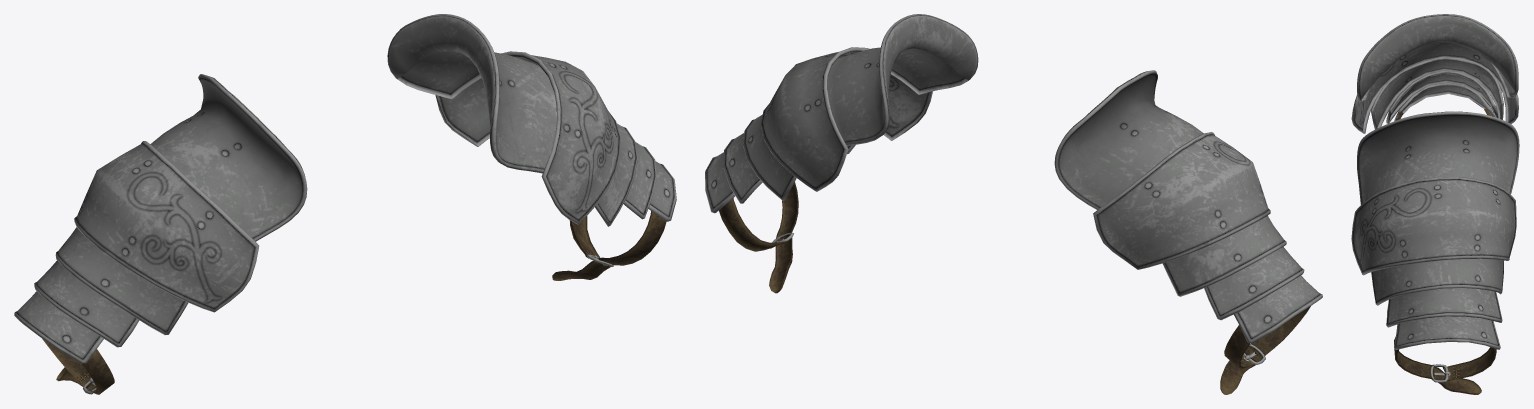
File: citidel_guard_armor_pauldrons_light.fbx
3 renders of one model, left to right at view 1: azimuth 30°, elevation 25°; view 2: azimuth 150°, elevation 25°; view 3: azimuth 270°, elevation 25°, orthographic. The views are drawn at different scales.
Visible parts, largest first — view 1: citidel_guard_armor_pauldrons_light; view 2: citidel_guard_armor_pauldrons_light; view 3: citidel_guard_armor_pauldrons_light.
Boxes of the visible parts, x1,y1,x2,y2 form: citidel_guard_armor_pauldrons_light: (14, 14, 676, 394); citidel_guard_armor_pauldrons_light: (705, 14, 1322, 394); citidel_guard_armor_pauldrons_light: (1351, 14, 1519, 394).
Size of the model in its own units: 0.8224 by 0.2342 by 0.3683.
Materials: 1 (1 with a texture image).
